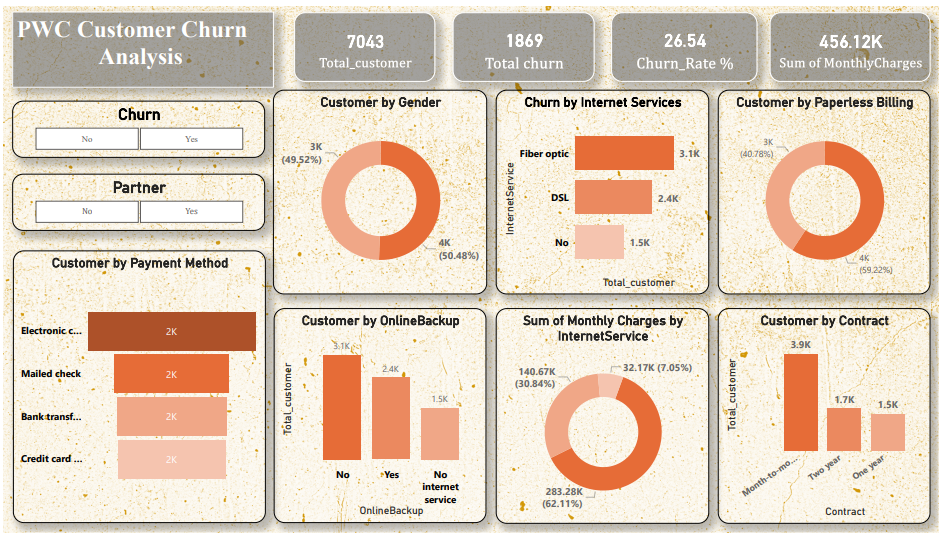

This screenshot's page, from the dashboard's own definition file:
{"tool":"powerbi","page":{"name":"Page 1","canvas":[1280,720],"ordinal":0},"visuals":[{"type":"card","title":"Total Customers","fields":{"Values":["01 Churn-Dataset.Total_customer"]},"box":[398.2,8.3,192.8,94.3],"z":0},{"type":"card","fields":{"Values":["01 Churn-Dataset.Total churn"]},"box":[614.6,8.3,194.2,94.3],"z":1000},{"type":"card","fields":{"Values":["01 Churn-Dataset.Churn_Rate %"]},"box":[832.4,8.3,199.8,94.3],"z":2000},{"type":"barChart","title":"Churn by Internet Services","fields":{"Category":["01 Churn-Dataset.InternetService"],"Y":["01 Churn-Dataset.Total_customer"]},"box":[674.2,113.8,291.3,280.2],"z":3000},{"type":"donutChart","title":"Customer by Gender","fields":{"Category":["01 Churn-Dataset.gender"],"Y":["01 Churn-Dataset.Total_customer"]},"box":[369,113.8,292.7,280.2],"z":4000},{"type":"funnel","title":"Customer by Payment Method","fields":{"Category":["01 Churn-Dataset.PaymentMethod"],"Y":["01 Churn-Dataset.Total_customer"]},"box":[12.9,334.3,345.7,372.9],"z":5000},{"type":"clusteredColumnChart","title":"Customer by OnlineBackup","fields":{"Y":["01 Churn-Dataset.Total_customer"],"Category":["01 Churn-Dataset.OnlineBackup"]},"box":[370,412.9,291.4,294.3],"z":6000},{"type":"clusteredColumnChart","title":"Customer by Contract","fields":{"Y":["01 Churn-Dataset.Total_customer"],"Category":["01 Churn-Dataset.Contract"]},"box":[978,413.4,291.3,294.1],"z":7000},{"type":"donutChart","title":"Sum of Monthly Charges by InternetService","fields":{"Category":["01 Churn-Dataset.InternetService"],"Y":["Sum(01 Churn-Dataset.MonthlyCharges)"]},"box":[674.2,413.4,291.3,294.1],"z":8000},{"type":"card","fields":{"Values":["Sum(01 Churn-Dataset.MonthlyCharges)"]},"box":[1048.8,8.3,220.6,94.3],"z":9000},{"type":"textbox","box":[12.5,6.9,357.9,104],"z":10000},{"type":"slicer","title":"Churn","fields":{"Values":["01 Churn-Dataset.Churn"]},"box":[12.5,129,345.4,77.7],"z":11000},{"type":"slicer","title":"Partner","fields":{"Values":["01 Churn-Dataset.Partner"]},"box":[12.5,228.9,345.4,77.7],"z":12000},{"type":"donutChart","title":"Customer by Paperless Billing","fields":{"Category":["01 Churn-Dataset.PaperlessBilling"],"Y":["01 Churn-Dataset.Total_customer"]},"box":[978,113.8,291.3,280.2],"z":12001}]}

Visuals, with their boxes in screenshot pixels (x1, y1, x2, y2), scaled from the page's 1280x720 canvas onto the 940x534 screenshot:
"Total Customers" card: box=[292, 6, 434, 76]
card - 01 Churn-Dataset.Total churn: box=[451, 6, 594, 76]
card - 01 Churn-Dataset.Churn_Rate %: box=[611, 6, 758, 76]
"Churn by Internet Services" barChart: box=[495, 84, 709, 292]
"Customer by Gender" donutChart: box=[271, 84, 486, 292]
"Customer by Payment Method" funnel: box=[9, 248, 263, 525]
"Customer by OnlineBackup" clusteredColumnChart: box=[272, 306, 486, 525]
"Customer by Contract" clusteredColumnChart: box=[718, 307, 932, 525]
"Sum of Monthly Charges by InternetService" donutChart: box=[495, 307, 709, 525]
card - Sum(01 Churn-Dataset.MonthlyCharges): box=[770, 6, 932, 76]
textbox: box=[9, 5, 272, 82]
"Churn" slicer: box=[9, 96, 263, 153]
"Partner" slicer: box=[9, 170, 263, 227]
"Customer by Paperless Billing" donutChart: box=[718, 84, 932, 292]
